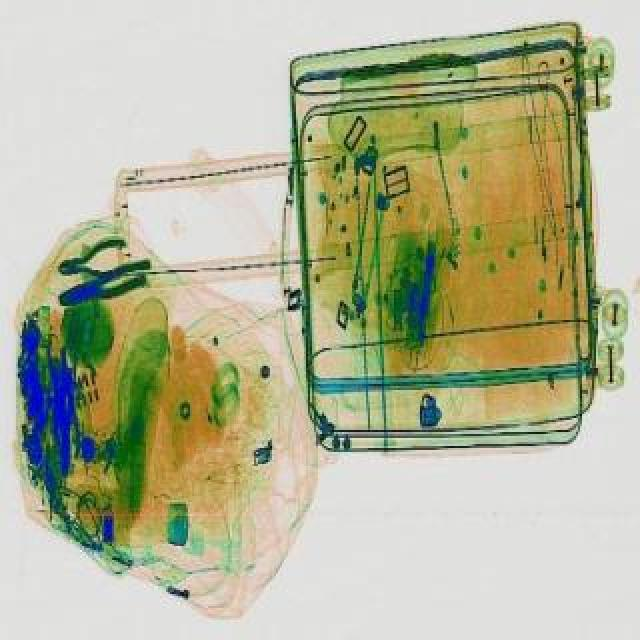wrench: (54, 262, 158, 316), (44, 344, 78, 484), (54, 242, 130, 290)
